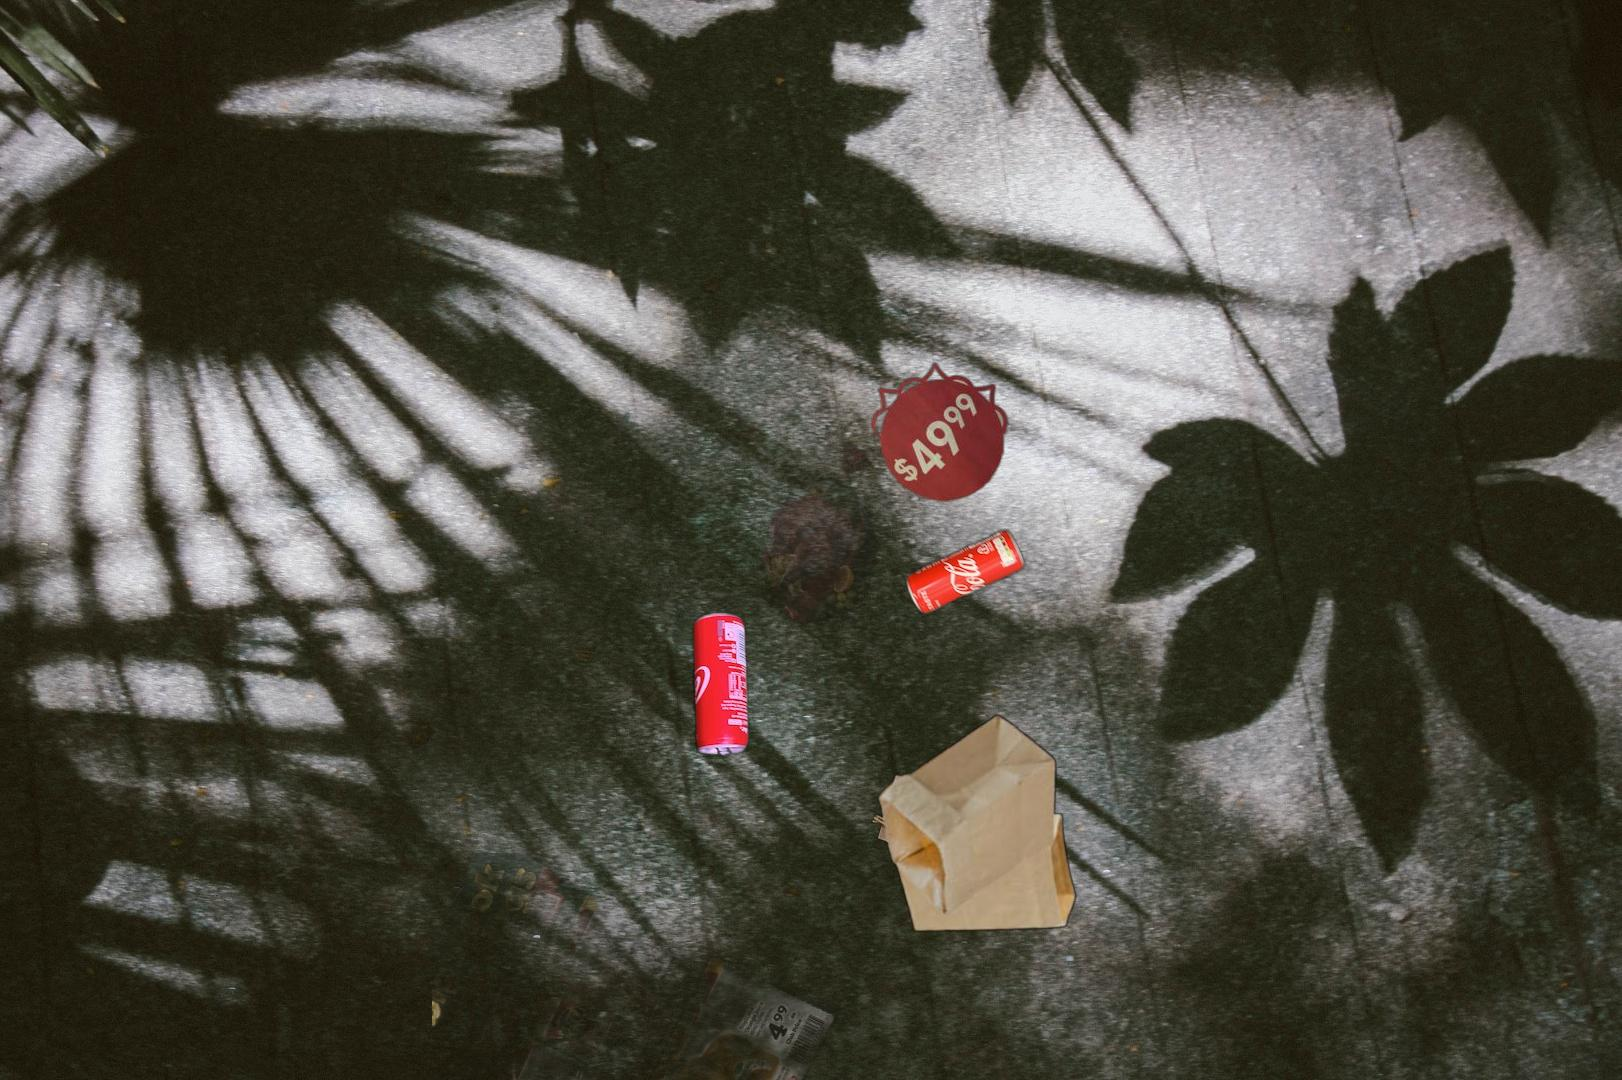metal-cans: (901, 524, 1029, 620), (689, 606, 754, 762)
paper: (431, 853, 922, 1080), (633, 359, 1013, 622)
paper-bag: (869, 712, 1079, 935)
